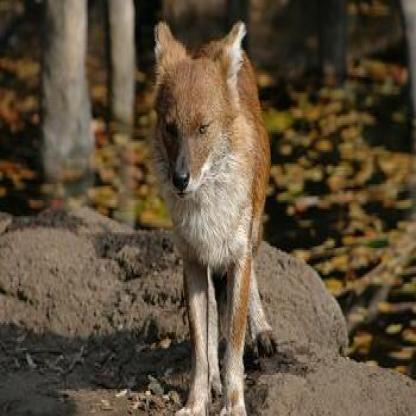dhole: (148, 18, 274, 412)
